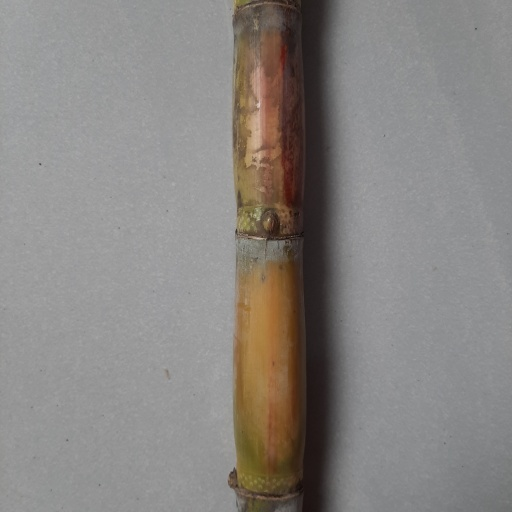Bud: (262, 209, 281, 238)
